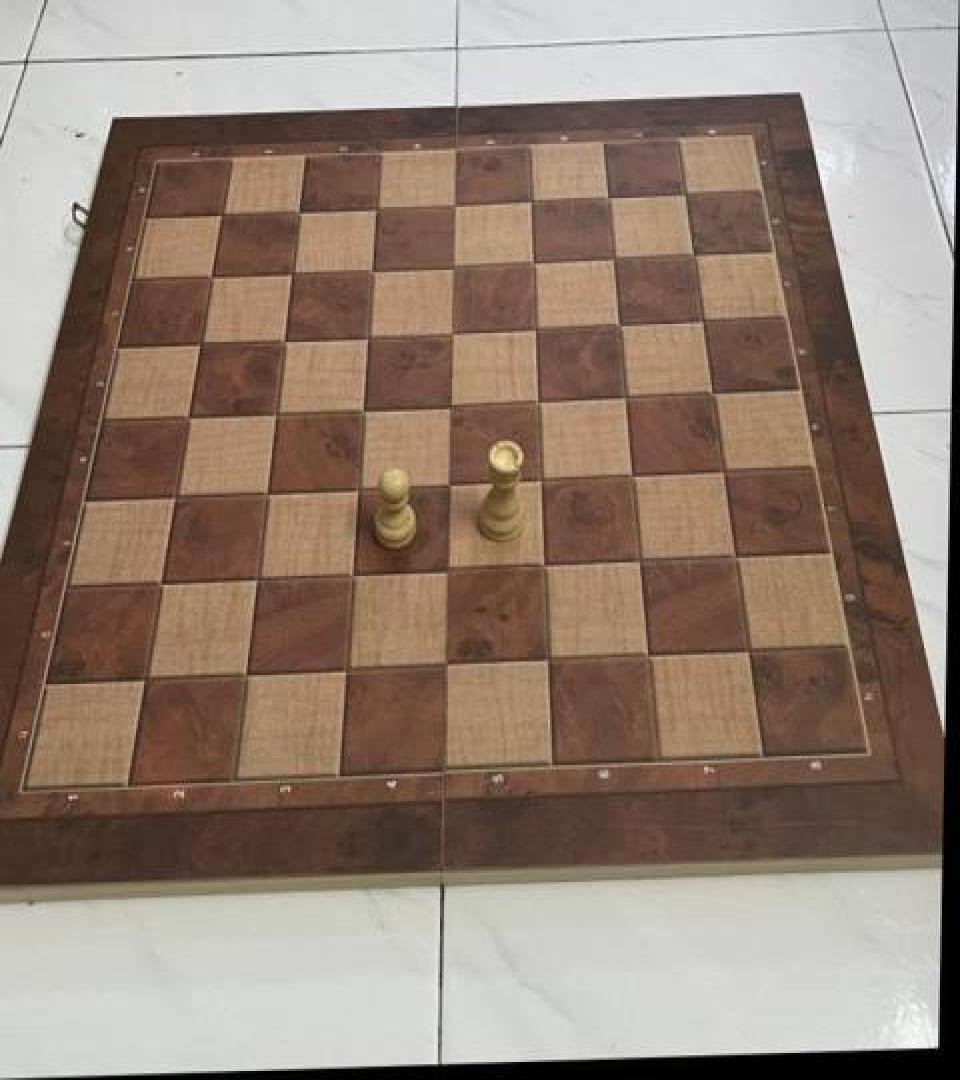xcorner: (667, 172, 703, 213), (435, 182, 471, 223), (204, 191, 240, 232), (595, 236, 631, 277), (354, 246, 390, 287), (193, 253, 229, 294), (684, 299, 720, 340), (433, 309, 469, 350), (266, 316, 302, 357), (694, 371, 730, 412), (432, 381, 468, 422), (257, 389, 293, 430), (614, 453, 650, 494), (431, 460, 467, 501), (157, 471, 193, 512), (525, 543, 561, 584), (333, 551, 369, 592), (142, 559, 178, 600), (730, 631, 766, 672), (428, 642, 464, 683), (226, 650, 262, 691), (589, 176, 625, 216), (512, 179, 548, 219), (358, 185, 394, 225), (281, 188, 317, 228), (675, 233, 711, 273), (514, 240, 550, 280), (434, 243, 470, 283), (273, 250, 309, 290), (600, 303, 636, 343), (517, 306, 553, 346), (349, 313, 385, 353), (182, 320, 218, 360), (607, 375, 643, 415), (519, 378, 555, 418), (344, 385, 380, 425), (170, 393, 206, 433), (705, 450, 741, 490), (522, 457, 558, 497), (339, 465, 375, 505), (248, 468, 284, 508), (717, 536, 753, 576), (621, 540, 657, 580), (429, 547, 465, 587), (238, 555, 274, 595), (629, 635, 665, 675), (529, 639, 565, 679), (327, 647, 363, 687), (126, 655, 162, 695)
